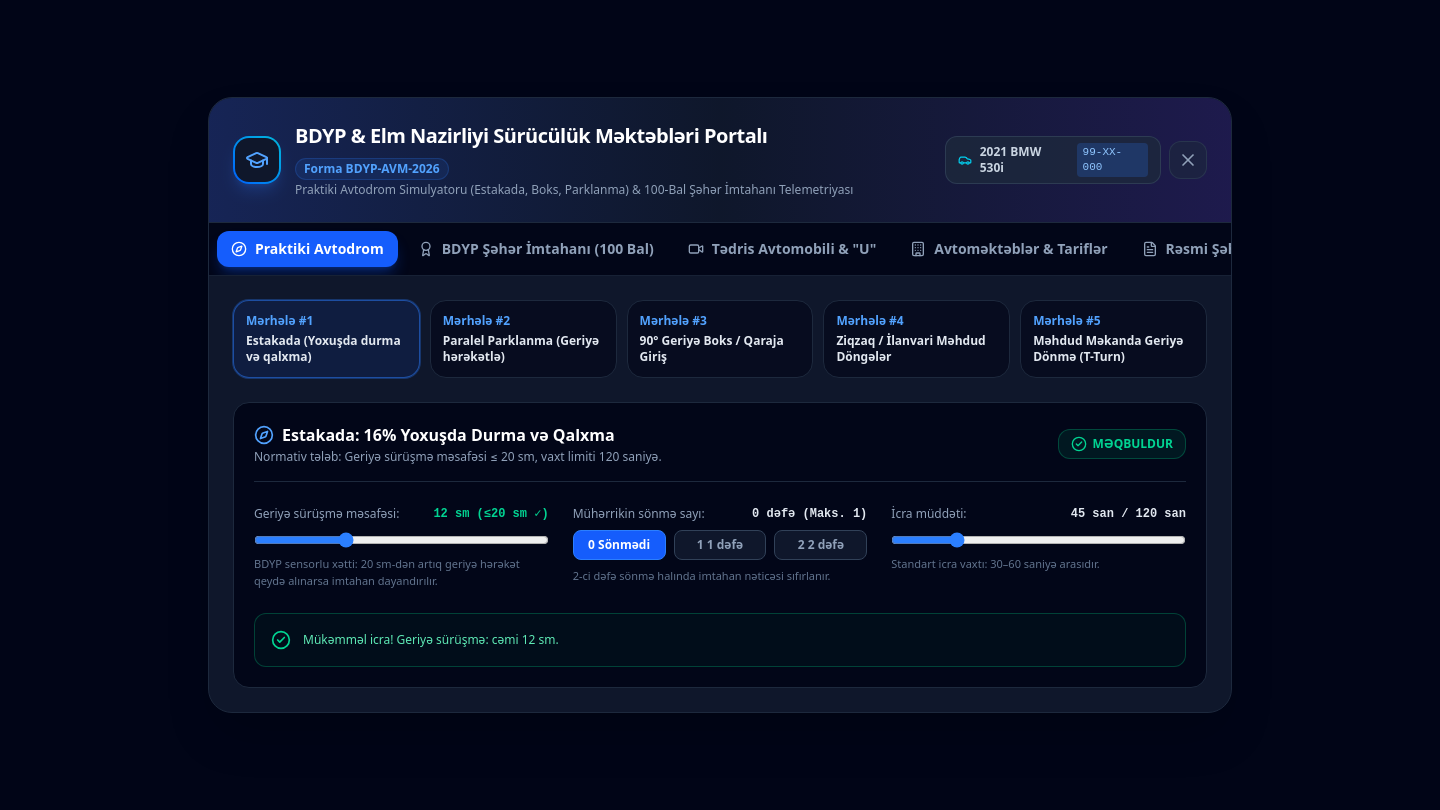
Test: DrivingSchoolModal Component › switches to schools tab, filters by city and generates certificate
Click the button "Avtoməktəblər & Tariflər".
click(1009, 249)  # box [896,231,1122,267]
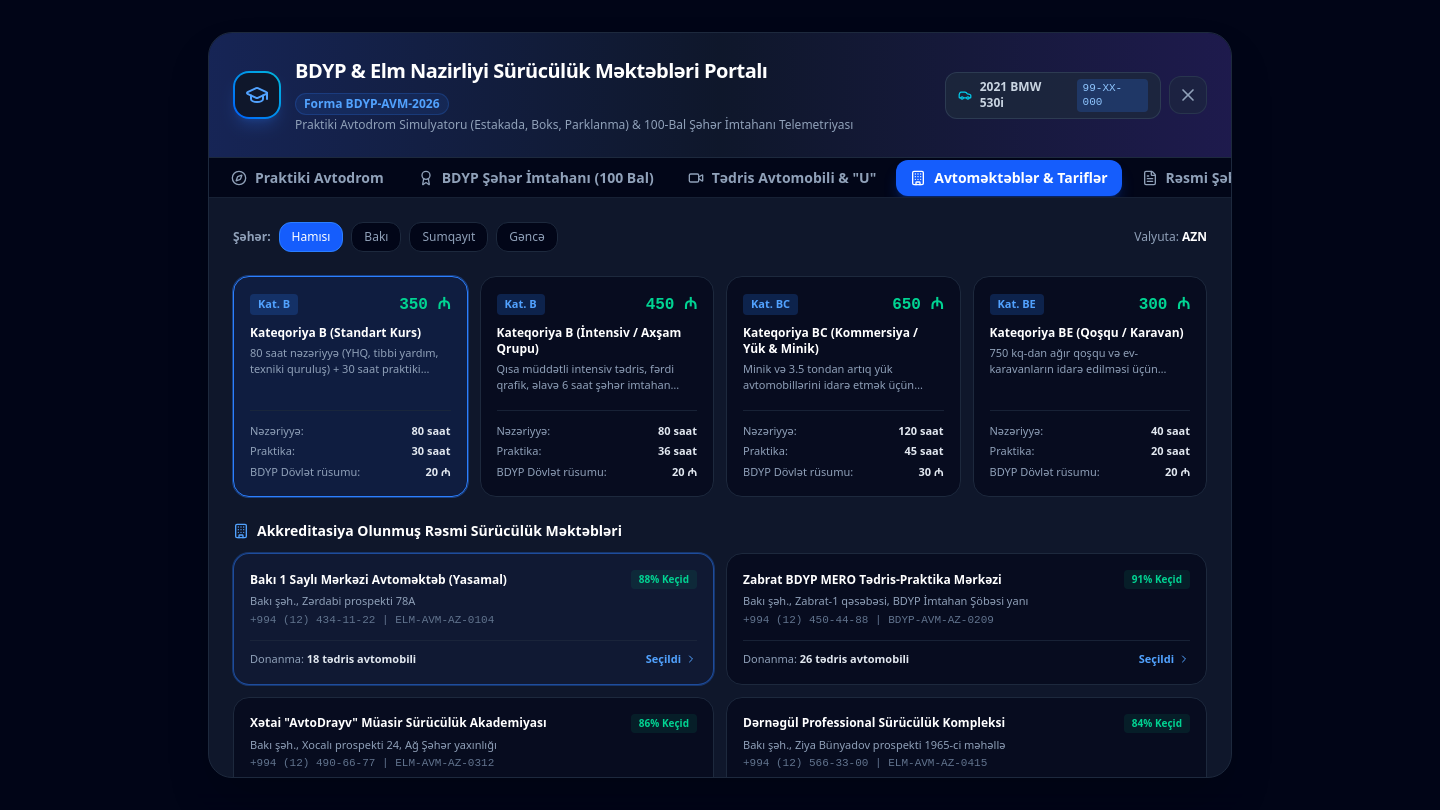
Note: Filter by Sumqayıt
Click the button "Sumqayıt".
click(449, 237)  # box [409,222,488,252]
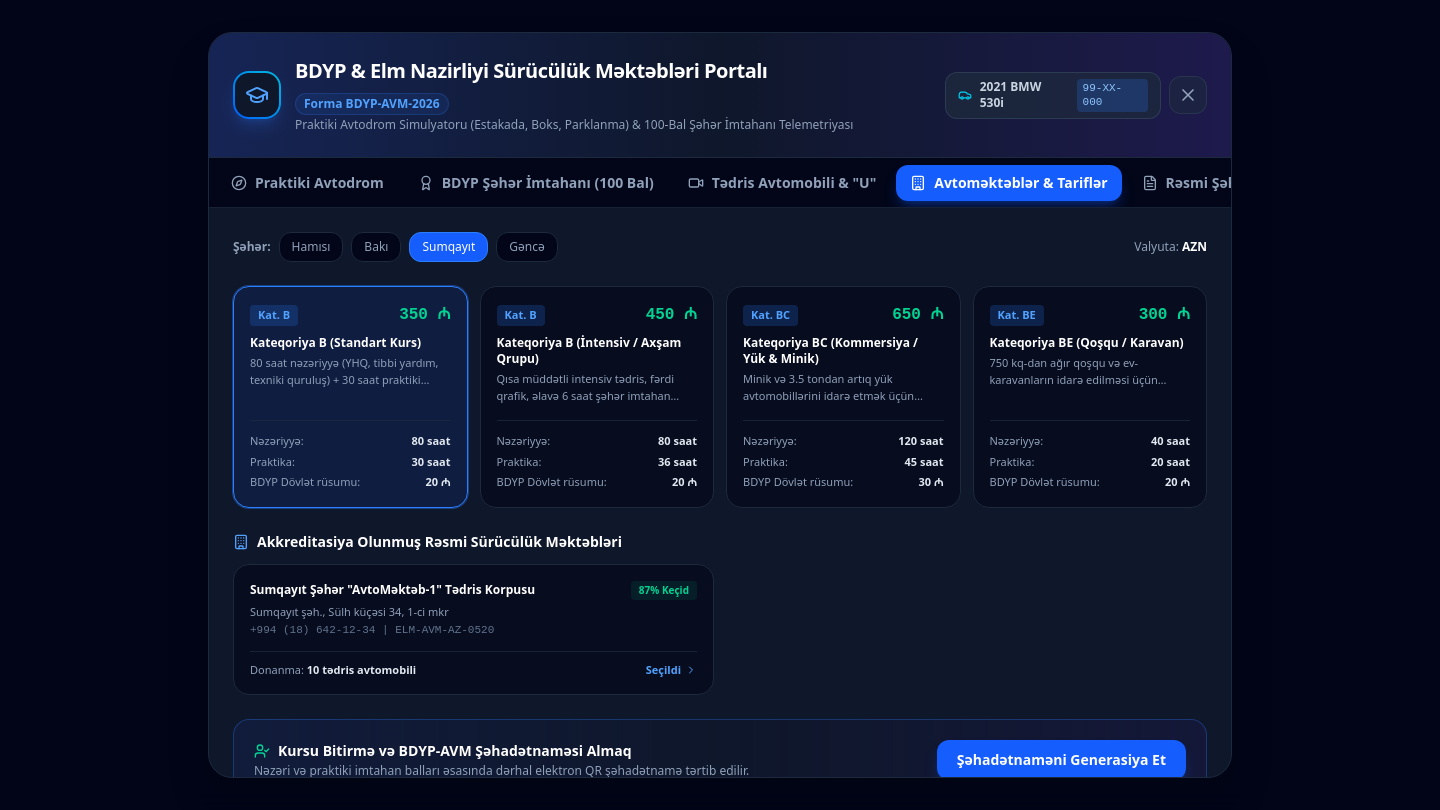
Result: the heading "Sumqayıt Şəhər \"AvtoMəktəb-1\" Tədris Korpusu" is shown at [250,582,535,598]
Note: Click Generate Certificate
Click the button "Şəhadətnaməni Generasiya Et".
click(1061, 760)  # box [937,740,1186,780]
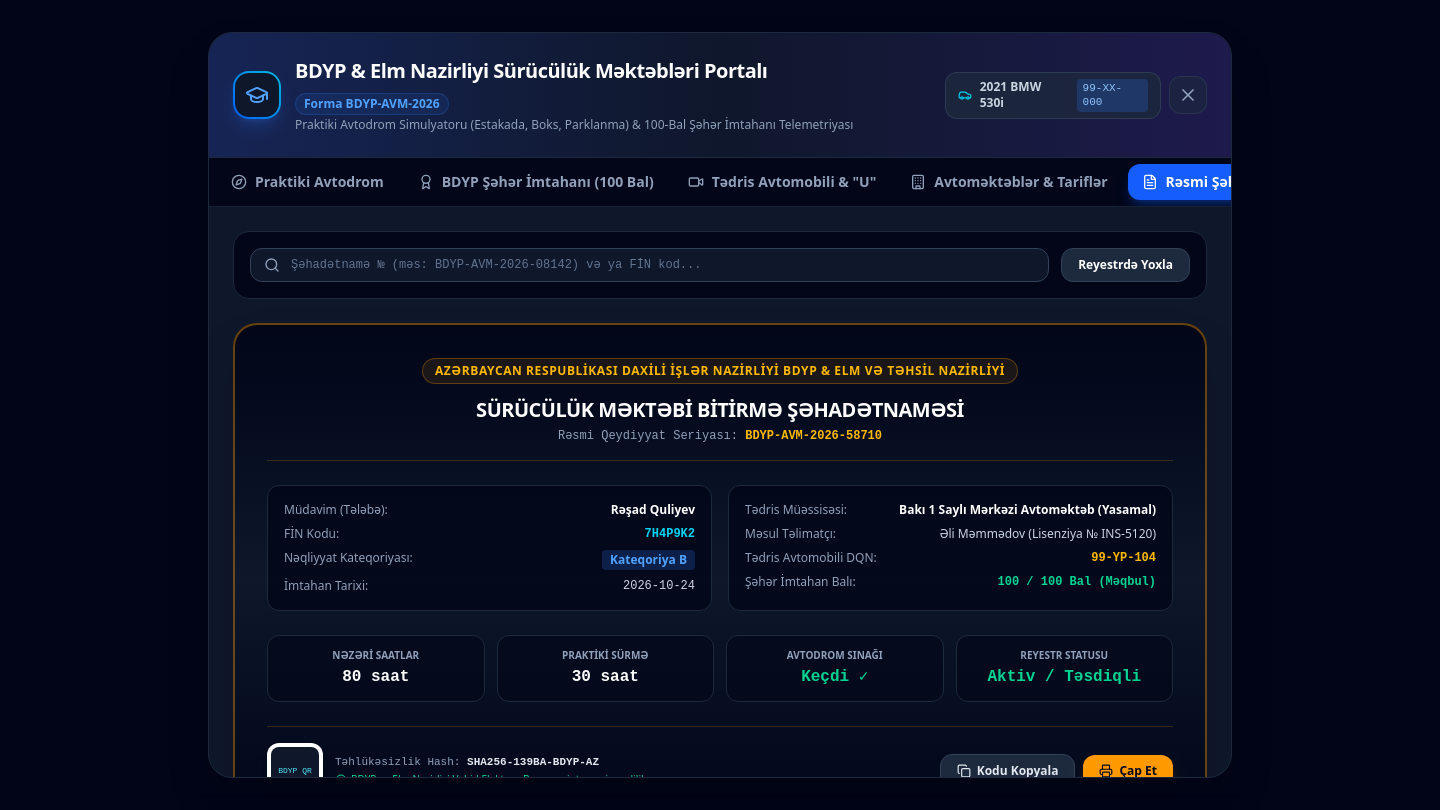
Result: the heading "Sürücülük Məktəbi Bitirmə Şəhadətnaməsi" is shown at [476,396,964,423]
